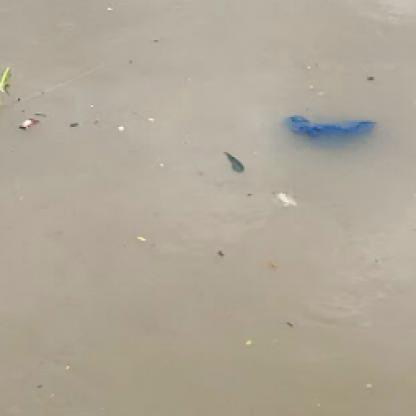Trash: (278, 112, 378, 149)
